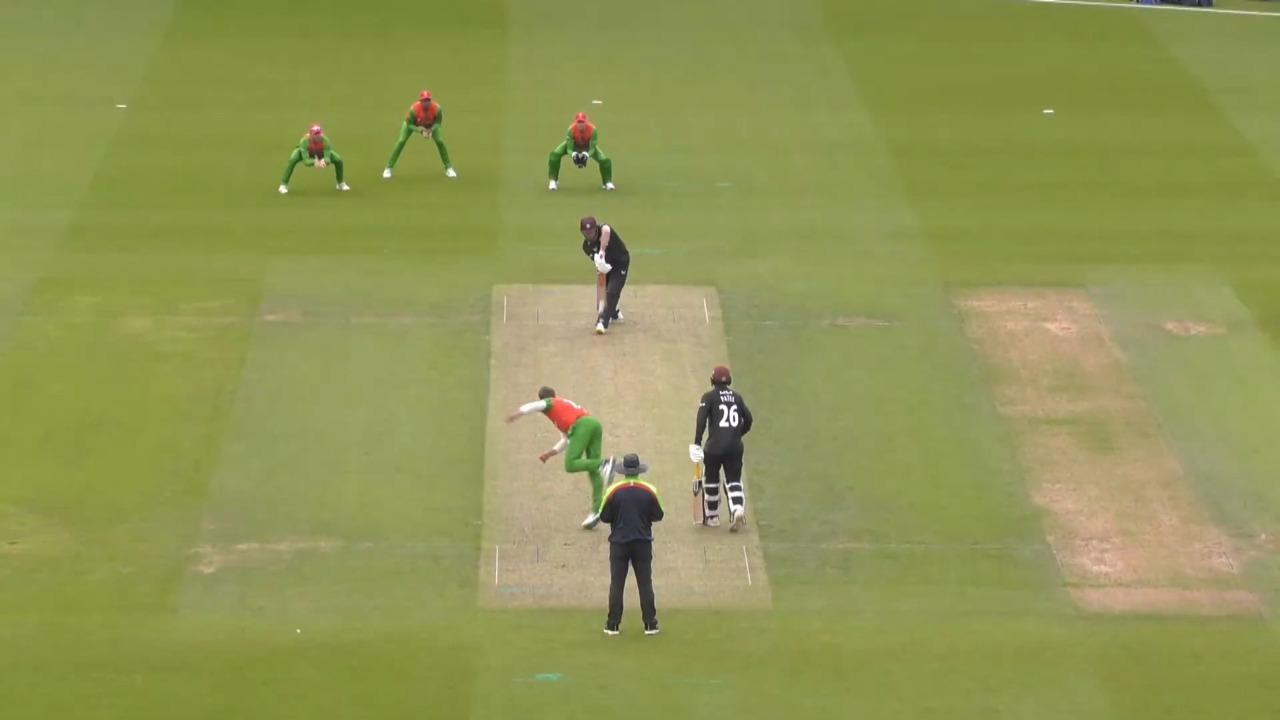sports ball: (599, 301, 604, 313)
